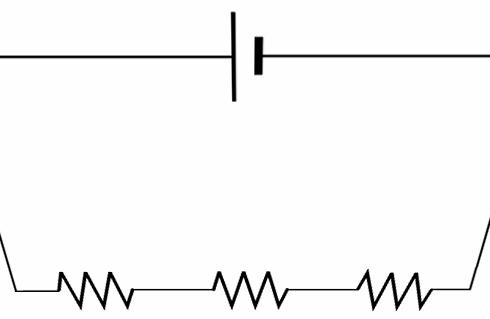resistor: (191, 259, 298, 314), (344, 261, 437, 316), (344, 261, 437, 315), (33, 274, 153, 314)
